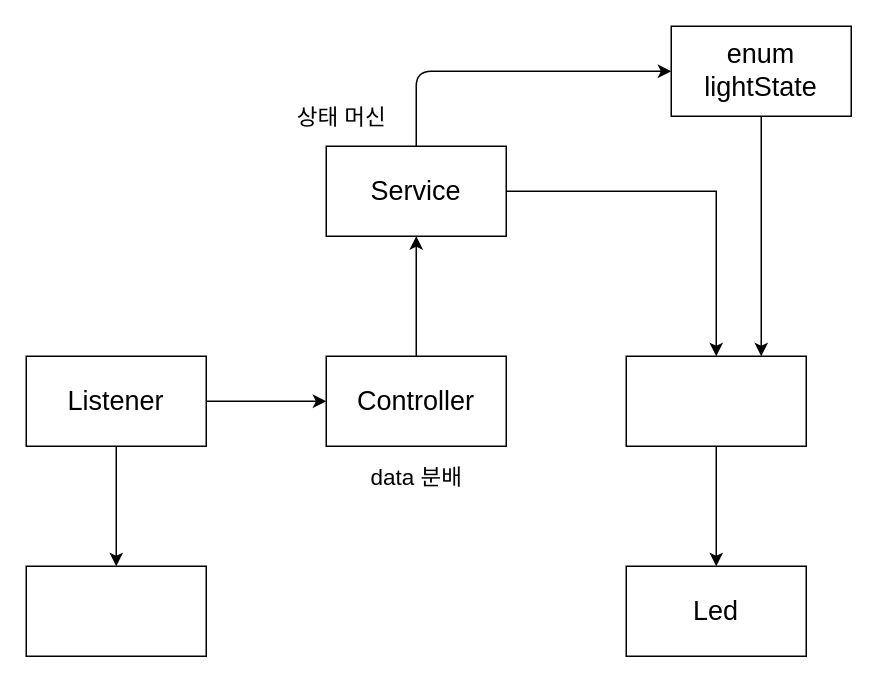
Some shapes in this 878 by 683 pixel diagram are drawn without their labels. Each missing label, with the centre of its shape:
"Button" belongs at (115,610).
"View" belongs at (715,400).
